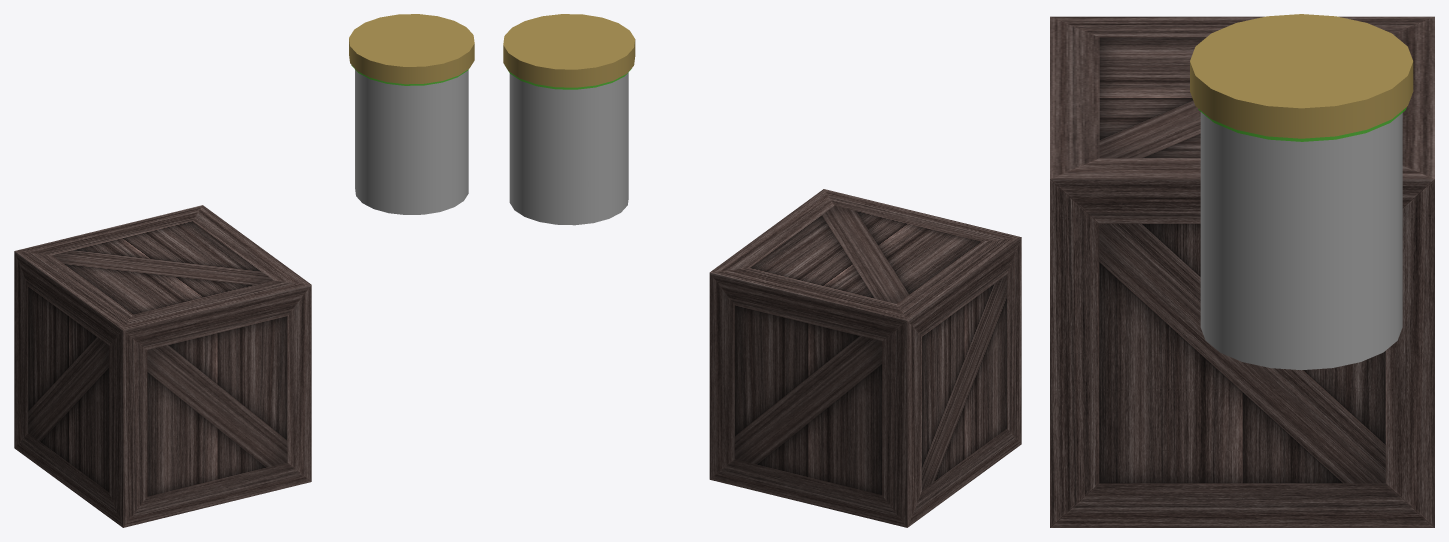
Rendered from SepticEye.fbx.
3 renders of one model, left to right at view 1: azimuth 30°, elevation 25°; view 2: azimuth 150°, elevation 25°; view 3: azimuth 270°, elevation 25°, orthographic. The views are drawn at different scales.
Visible parts, largest first — view 1: pCube58; view 2: pCube58; view 3: pCube58.
Boxes of the visible parts, bbox=[...] form: pCube58: bbox=[14, 14, 474, 527]; pCube58: bbox=[503, 14, 1021, 527]; pCube58: bbox=[1050, 14, 1434, 527].
Bounding box in the file's own units: 3.17 × 2.54 × 1.44.
10 materials, 7 textured.
